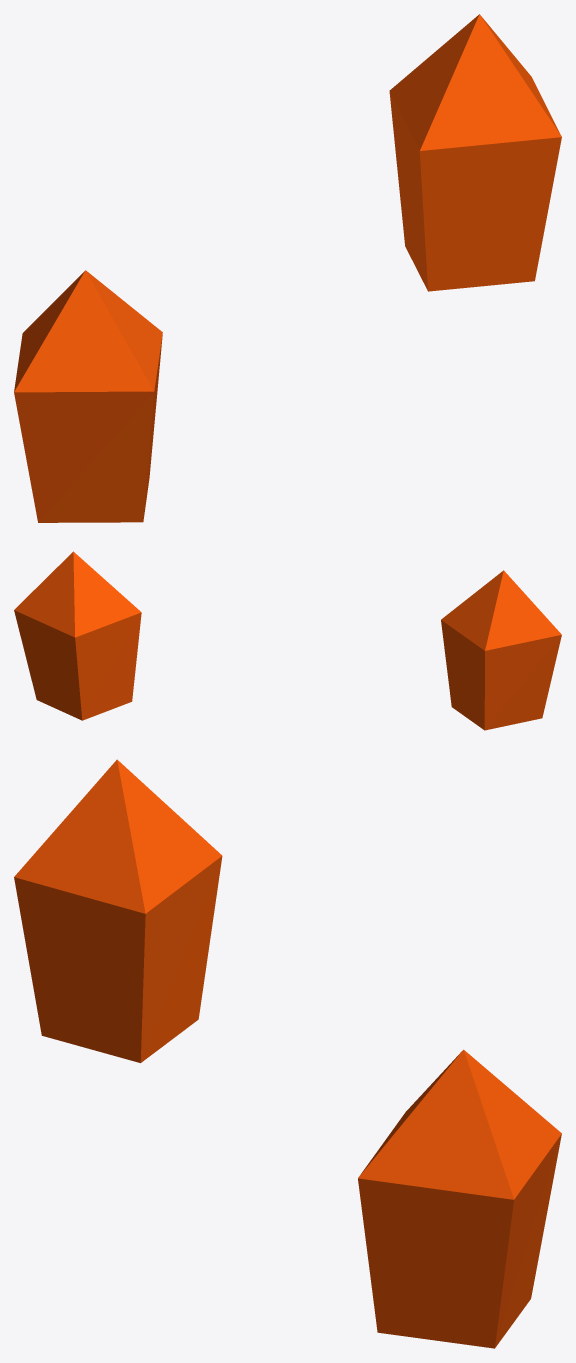
File: crystal_ignis_1.obj
3 renders of one model, top to bottom at view 1: azimuth 30°, elevation 25°; view 2: azimuth 150°, elevation 25°; view 3: azimuth 270°, elevation 25°, orthographic. The views are drawn at different scales.
Visible parts, largest first — view 1: s014, s015; view 2: s014, s015; view 3: s015, s014.
Part boxes in pixels (x1=…): s014: x1=389, y1=14, x2=561, y2=291; s015: x1=14, y1=270, x2=162, y2=522; s014: x1=14, y1=551, x2=141, y2=720; s015: x1=441, y1=570, x2=561, y2=730; s015: x1=14, y1=759, x2=222, y2=1063; s014: x1=358, y1=1049, x2=561, y2=1348.
Bounding box in the file's own units: 0.8279 × 0.2728 × 0.4947.
